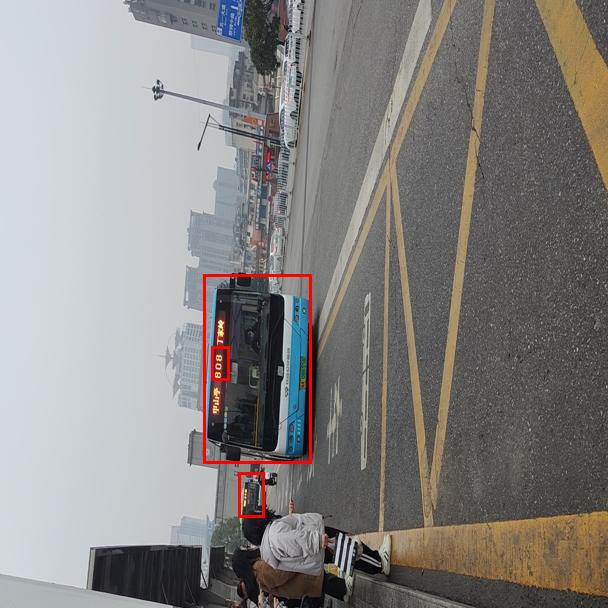bus: (203, 274, 311, 463), (238, 472, 264, 517)
screen: (211, 346, 229, 380)
